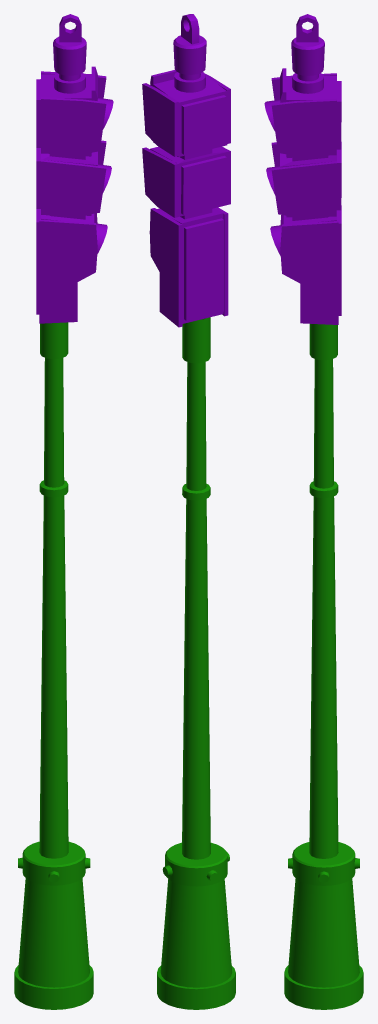
The model's file is Direction_Metal_01.FBX.
3 renders of one model, left to right at view 1: azimuth 90°, elevation 25°; view 2: azimuth 210°, elevation 25°; view 3: azimuth 270°, elevation 25°, orthographic.
Parts seen in each view (by area): view 1: Direction_Metal_01_LOD0; view 2: Direction_Metal_01_LOD0; view 3: Direction_Metal_01_LOD0.
Boxes of the visible parts, left/top/right/bottom form: Direction_Metal_01_LOD0: left=14, top=14, right=113, bottom=1009; Direction_Metal_01_LOD0: left=142, top=14, right=235, bottom=1009; Direction_Metal_01_LOD0: left=264, top=14, right=363, bottom=1009.
Size of what is drawn, in the model's own units: 43.31 by 589 by 54.14.
